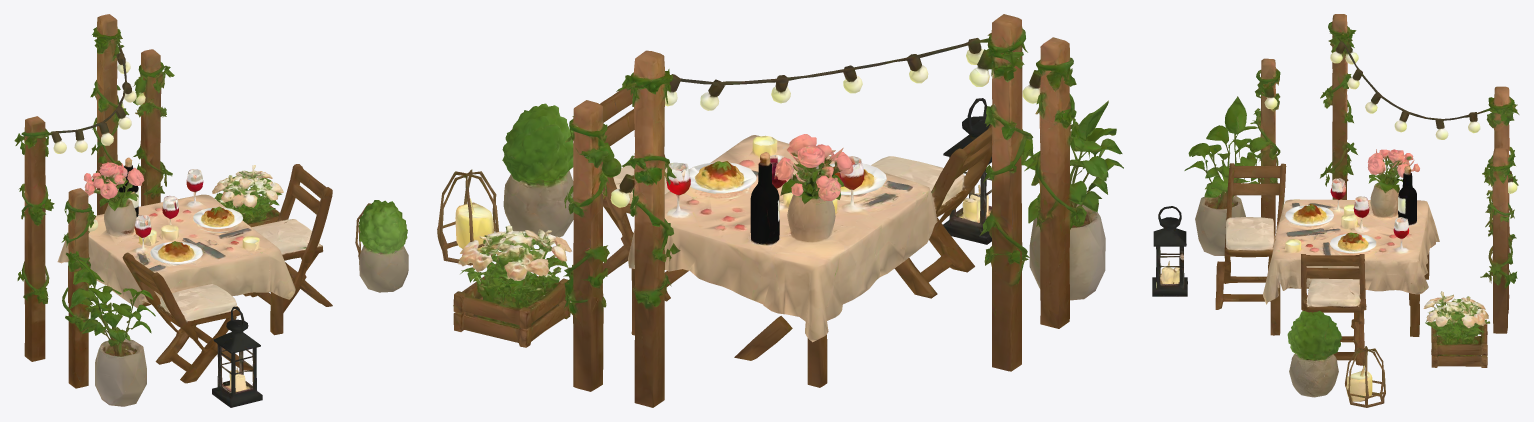
The model's file is yzhin.glb.
The picture shows the model from 3 angles, left to right: view 1: azimuth 30°, elevation 25°; view 2: azimuth 150°, elevation 25°; view 3: azimuth 270°, elevation 25°; orthographic projection. The views are drawn at different scales.
Visible parts, largest first — view 1: mesh_node; view 2: mesh_node; view 3: mesh_node.
Boxes of the visible parts, x1,y1,x2,y2 form: mesh_node: (14, 14, 408, 407); mesh_node: (437, 14, 1123, 407); mesh_node: (1152, 14, 1519, 407).
Bounding box in the file's own units: 1.9 × 1.11 × 1.65.
1 material, 1 textured.
